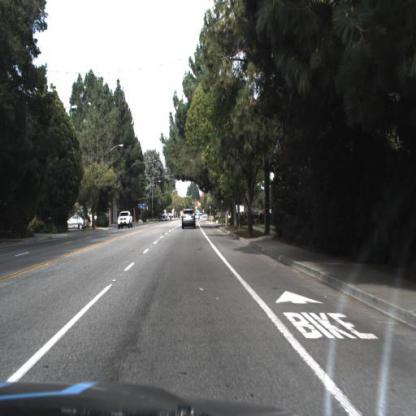car: (180, 209, 198, 233), (66, 214, 87, 234), (117, 208, 135, 231)
